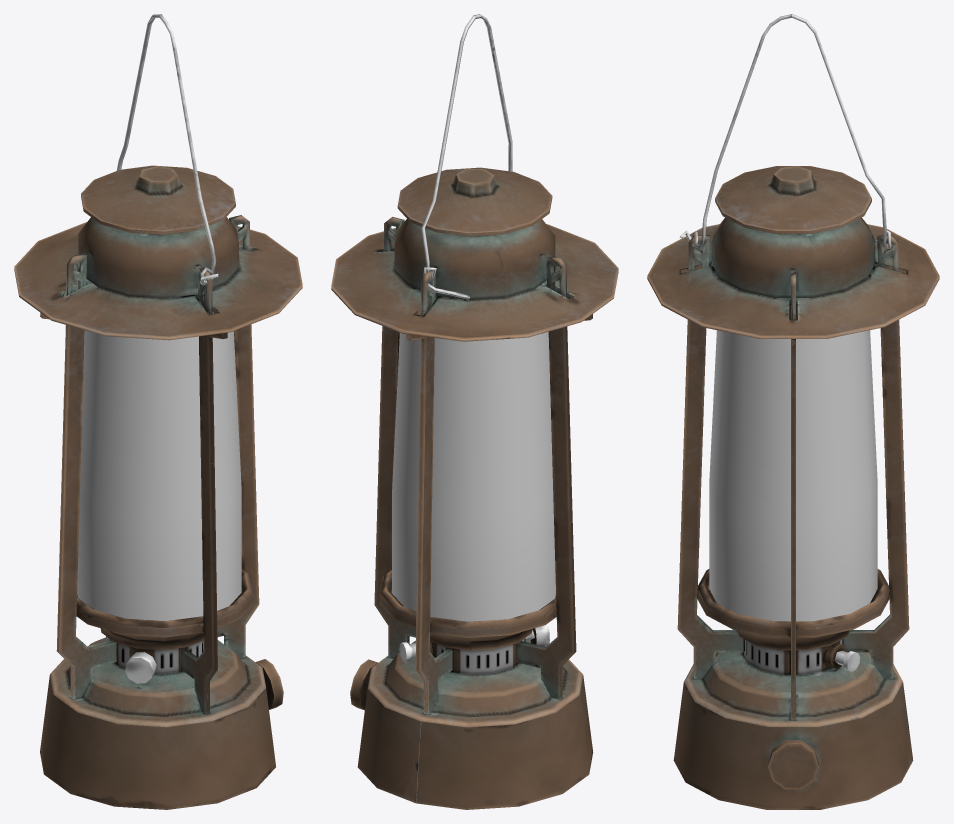
Rendered from StormLantern_01_LOD0.fbx.
3 views of the same model, side by side, from view 1: azimuth 30°, elevation 25°; view 2: azimuth 150°, elevation 25°; view 3: azimuth 270°, elevation 25° (orthographic).
Visible parts, largest first — view 1: StormLantern_01_LOD0; view 2: StormLantern_01_LOD0; view 3: StormLantern_01_LOD0.
Part boxes in pixels (x1,y1,x2,y2): StormLantern_01_LOD0: (14, 14, 302, 809); StormLantern_01_LOD0: (331, 14, 618, 809); StormLantern_01_LOD0: (647, 14, 939, 809).
Size of the model in its own units: 262 by 758 by 269.
